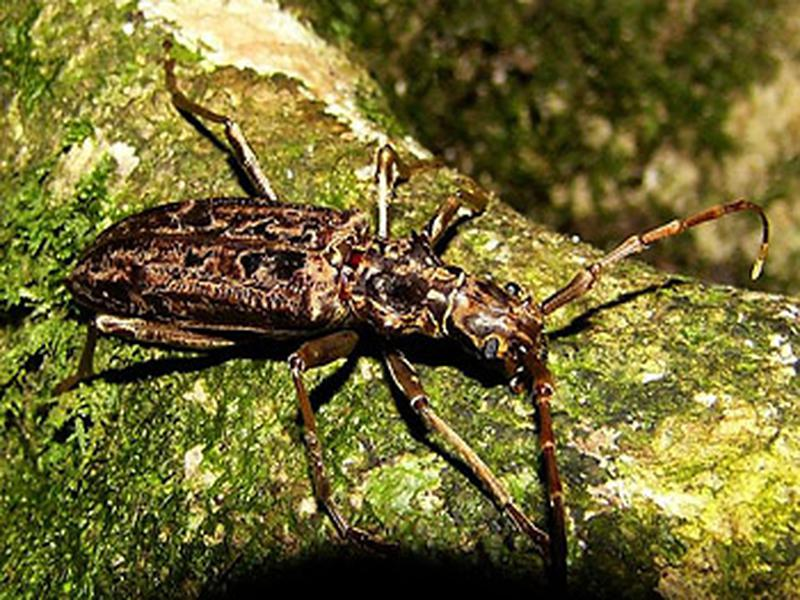Spiny_beetle: (33, 182, 568, 429)
